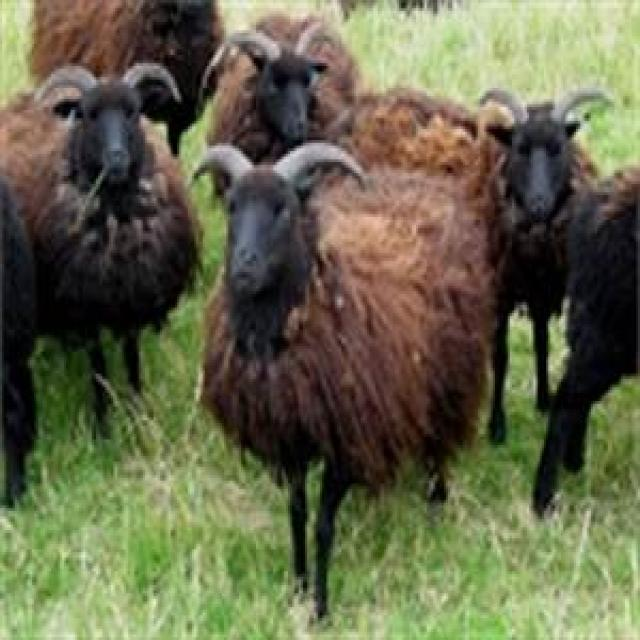animal: (190, 145, 495, 607), (0, 63, 197, 427), (454, 90, 612, 421), (206, 11, 363, 166)
